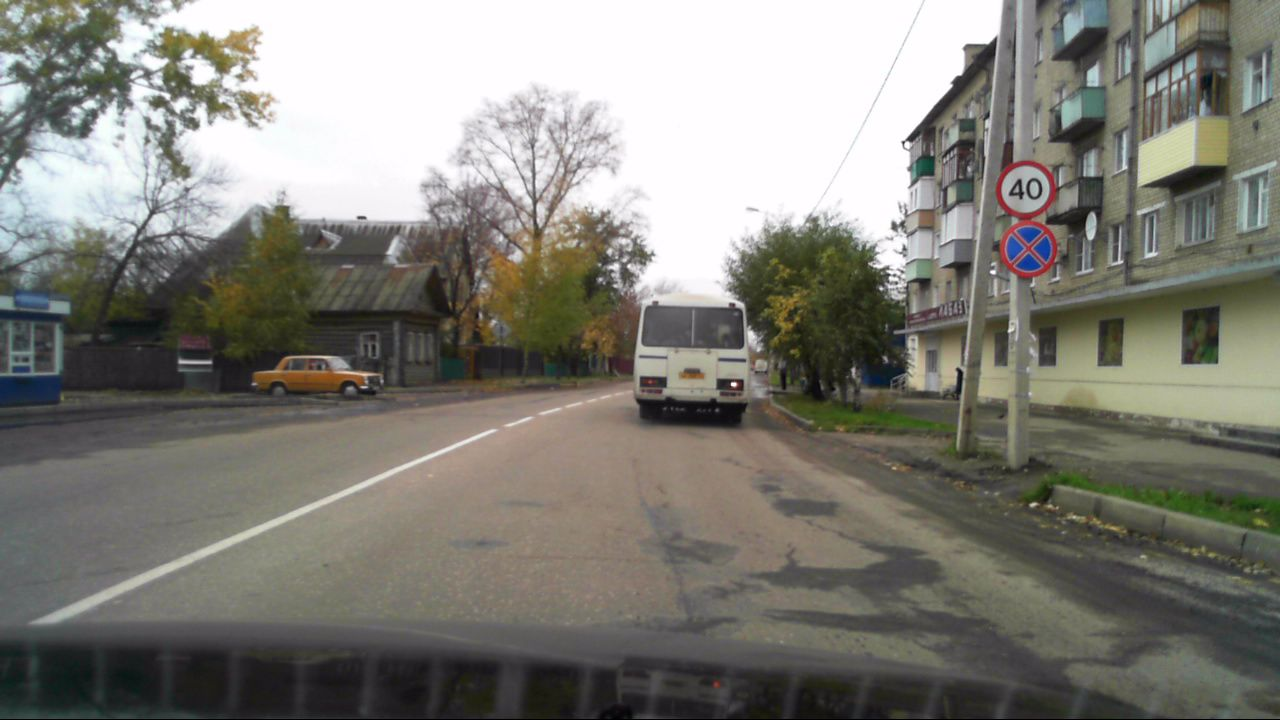No Parking: (997, 219, 1058, 279)
speed_warning_40: (993, 158, 1057, 219)
